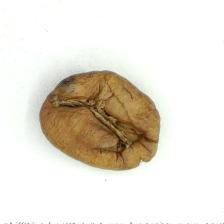NG: (50, 74, 144, 152)
